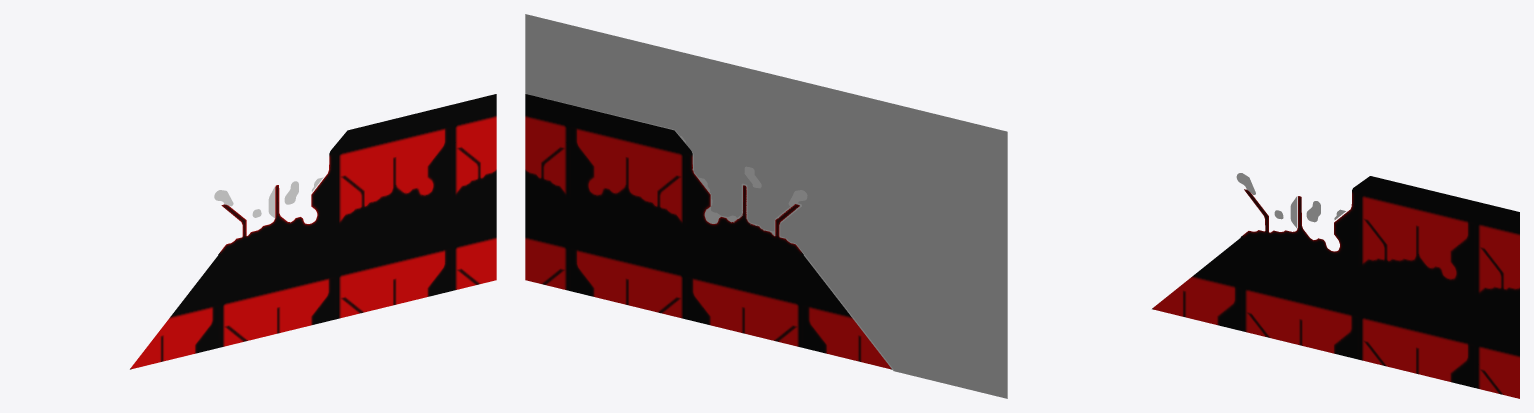
Rendered from LosAngeles.glb.
3 views of the same model, side by side, from view 1: azimuth 30°, elevation 25°; view 2: azimuth 150°, elevation 25°; view 3: azimuth 330°, elevation 25° (orthographic).
Visible parts, largest first — view 1: LosAngeles_Water; view 2: LosAngeles_Land, LosAngeles_Water, LosAngeles_Beach, LosAngeles_Grass; view 3: LosAngeles_Water.
Part boxes in pixels (x1,y1,x2,y2): LosAngeles_Water: (130, 94, 496, 369); LosAngeles_Land: (525, 14, 1007, 398); LosAngeles_Water: (525, 94, 891, 369); LosAngeles_Beach: (525, 93, 893, 370); LosAngeles_Grass: (698, 166, 807, 223); LosAngeles_Water: (1152, 176, 1519, 398).
Bounding box in the file's own units: 324 × 171 × 0.33.
Materials: 4 (1 with a texture image).
